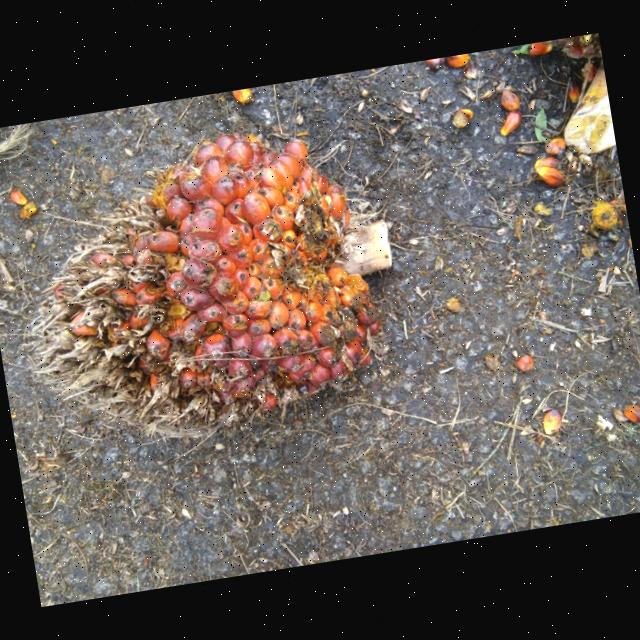Ripe: (63, 119, 385, 449)
